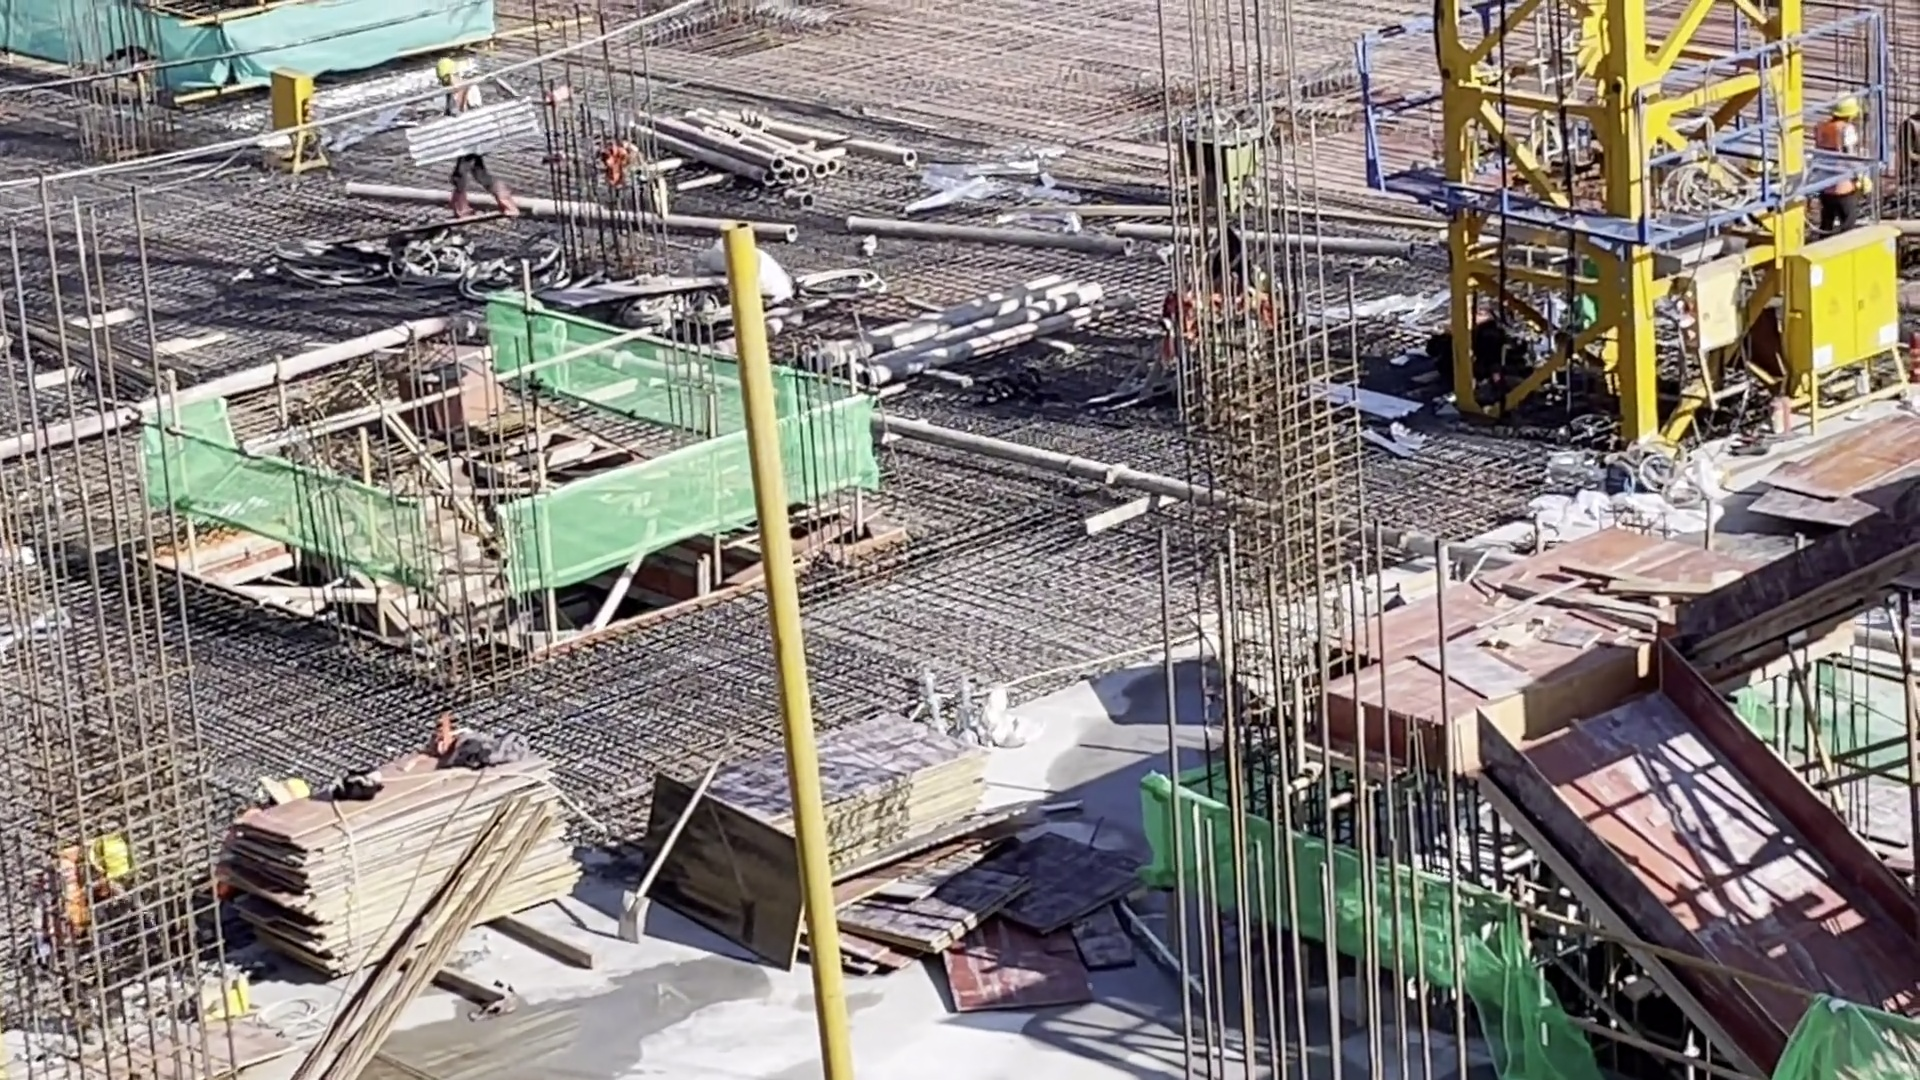board: (633, 704, 1079, 954), (232, 771, 588, 949)
ebox: (1751, 215, 1920, 437), (263, 53, 349, 177)
helmet: (78, 838, 139, 888), (1832, 85, 1860, 117), (436, 54, 465, 84)
person: (434, 51, 524, 233), (45, 824, 139, 988), (1819, 81, 1905, 254)
scaffold: (646, 78, 942, 213)
vest: (60, 839, 104, 942), (1817, 120, 1872, 198)
